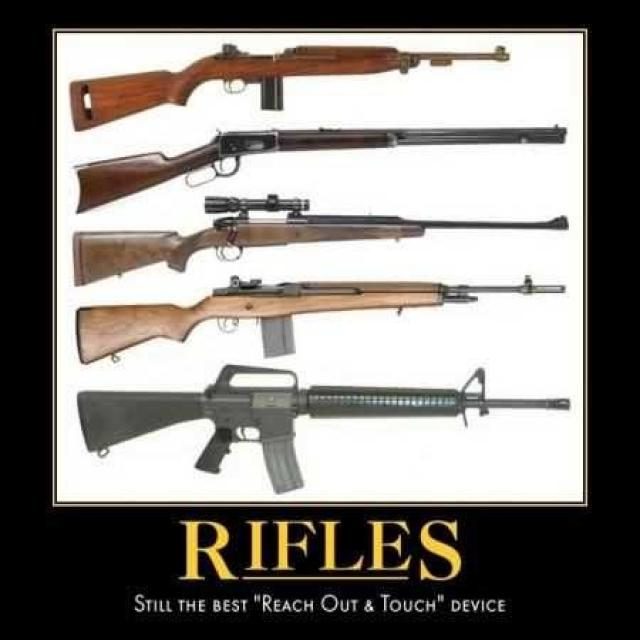heavyweapon: (71, 263, 583, 384), (74, 106, 583, 221), (75, 369, 583, 479), (71, 28, 539, 137), (60, 202, 576, 290)
